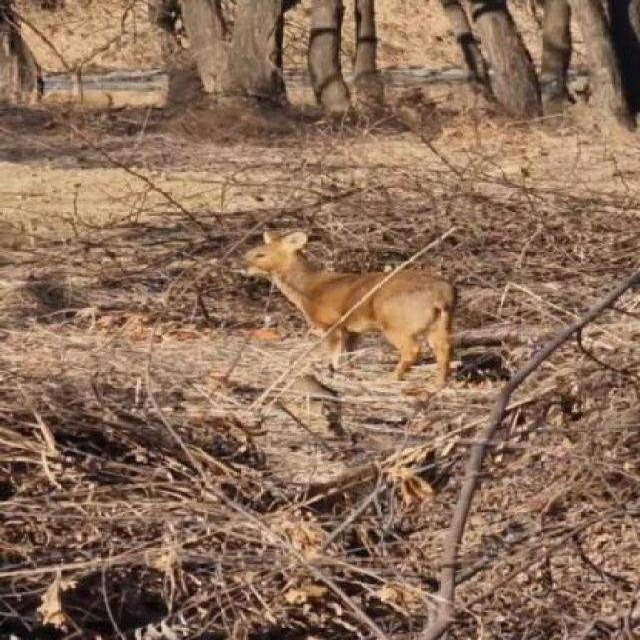deer: (226, 231, 457, 389)
